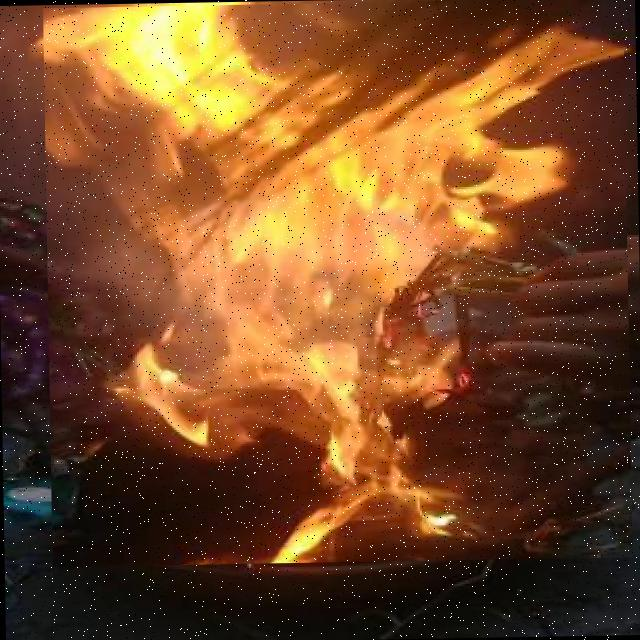fire: (42, 0, 632, 566)
